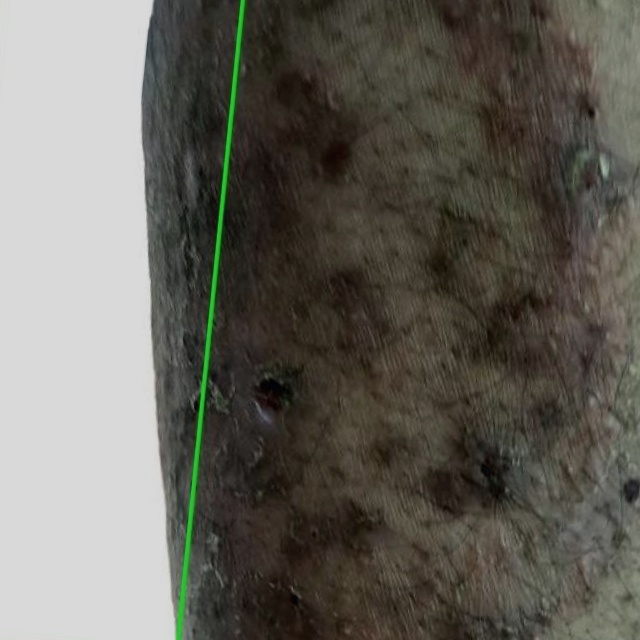Tinea Corporis: (0, 0, 242, 639)
